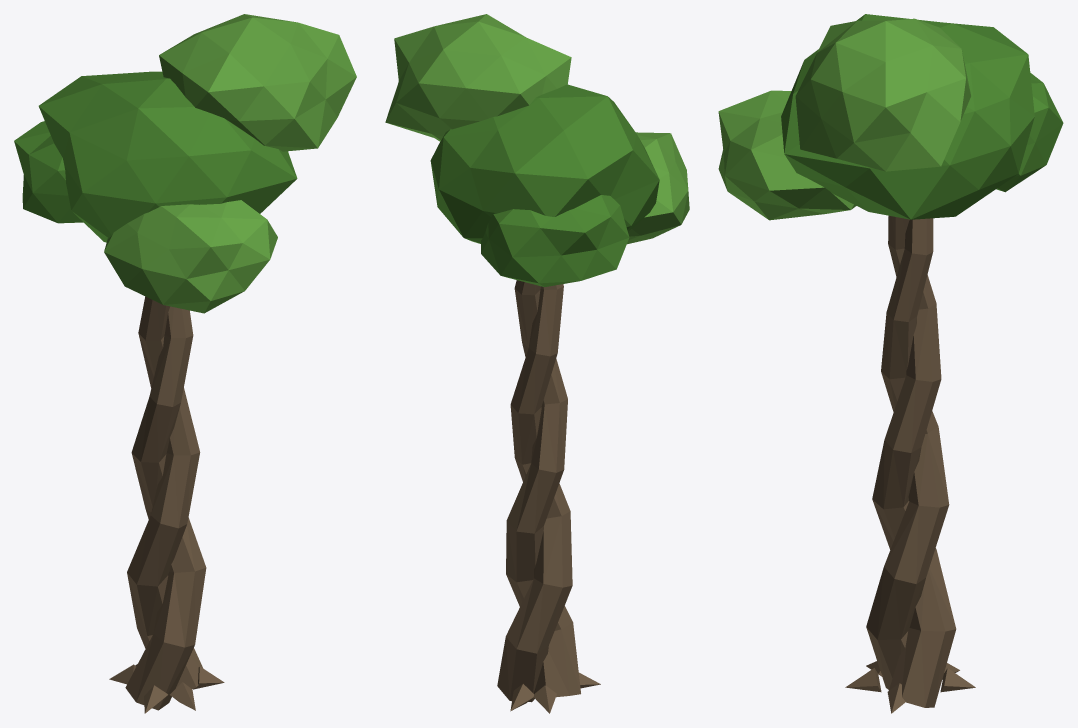
The model's file is HS_LP_Tree_Twisted_01.fbx.
3 views of the same model, side by side, from view 1: azimuth 30°, elevation 25°; view 2: azimuth 150°, elevation 25°; view 3: azimuth 270°, elevation 25° (orthographic). The views are drawn at different scales.
Parts seen in each view (by area): view 1: HS_LP_Tree_Twisted_01; view 2: HS_LP_Tree_Twisted_01; view 3: HS_LP_Tree_Twisted_01.
Part boxes in pixels (left/top/right/bottom): HS_LP_Tree_Twisted_01: left=14, top=14, right=356, bottom=713; HS_LP_Tree_Twisted_01: left=385, top=14, right=689, bottom=713; HS_LP_Tree_Twisted_01: left=718, top=14, right=1063, bottom=713.
Size of the model in its own units: 242 by 561 by 245.
